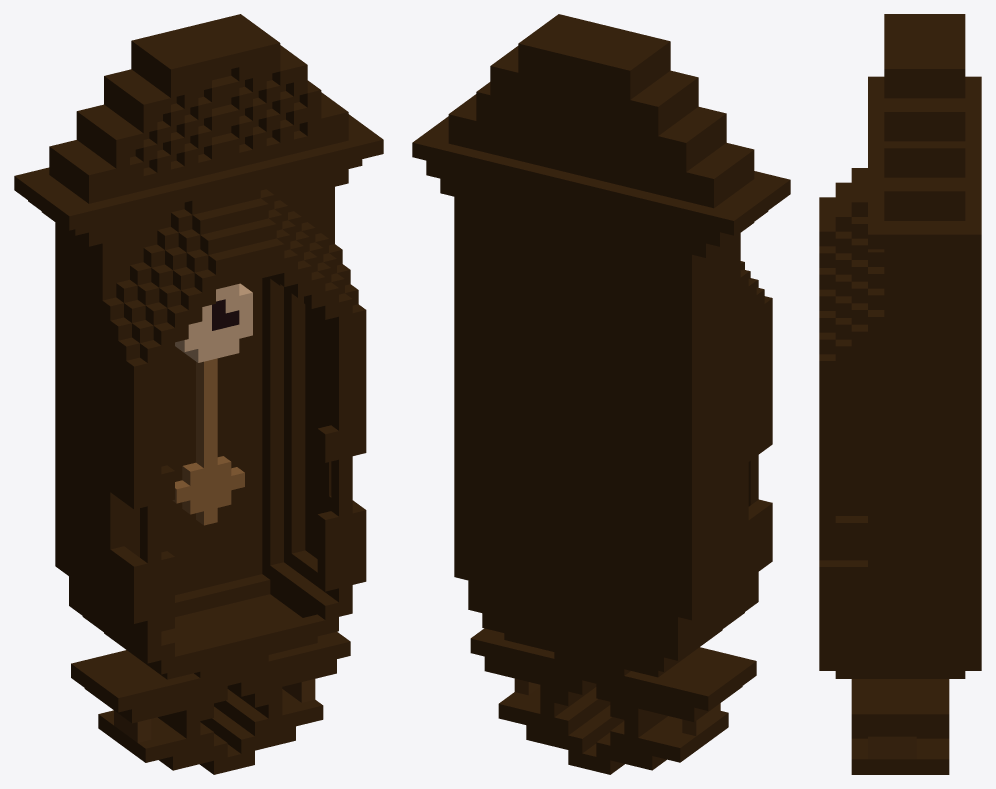
Rendered from Horloge ancienne.obj.
3 renders of one model, left to right at view 1: azimuth 30°, elevation 25°; view 2: azimuth 150°, elevation 25°; view 3: azimuth 270°, elevation 25°, orthographic. The views are drawn at different scales.
Parts seen in each view (by area): view 1: Horloge ancienne; view 2: Horloge ancienne; view 3: Horloge ancienne.
Part boxes in pixels (x1,y1,x2,y2): Horloge ancienne: [14, 14, 383, 774]; Horloge ancienne: [412, 14, 790, 774]; Horloge ancienne: [819, 14, 981, 774].
Bounding box in the file's own units: 23 × 49 × 10.
Materials: 1 (1 with a texture image).
